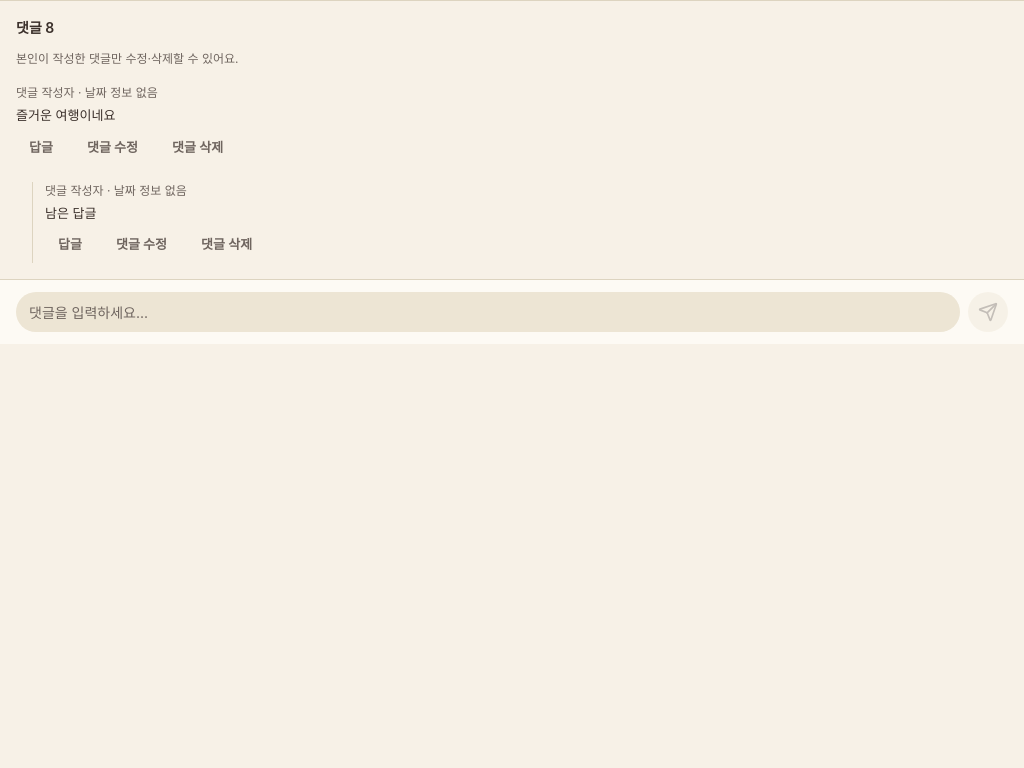
Test: persisted post comments › reloads the server tree after deleting a parent and exposes failed reads for retry
The width and height of the screenshot is (1024, 768).
Expected: the text "남은 답글" is shown, [45,204,96,220]
Click the button "댓글 삭제" below "즐거운 여행이네요" at (198, 148), box [159,130,236,166]
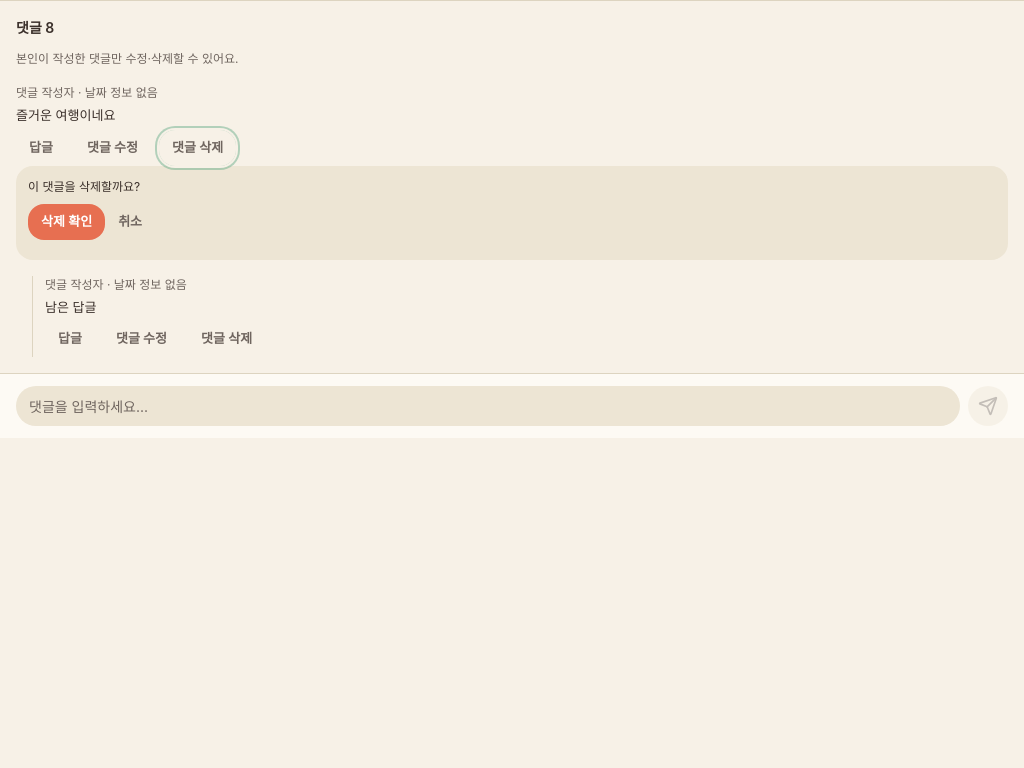
Click the button "삭제 확인" at (67, 222), box [28,204,105,240]
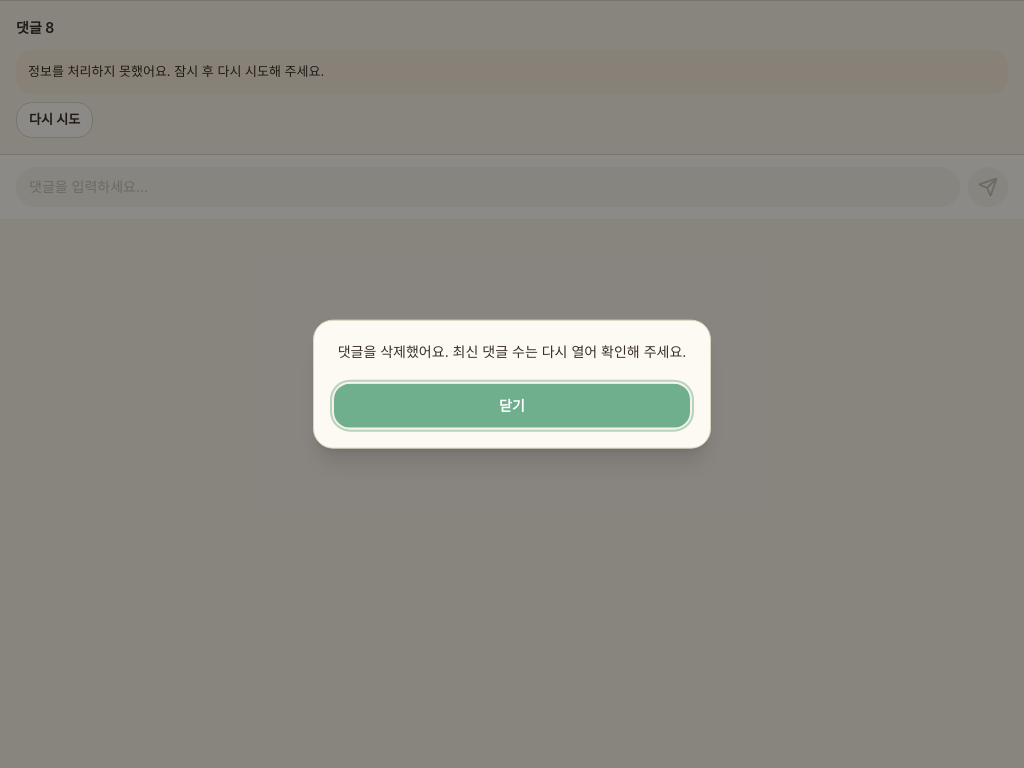
Click the button "닫기" at (512, 405), box [334,383,690,427]
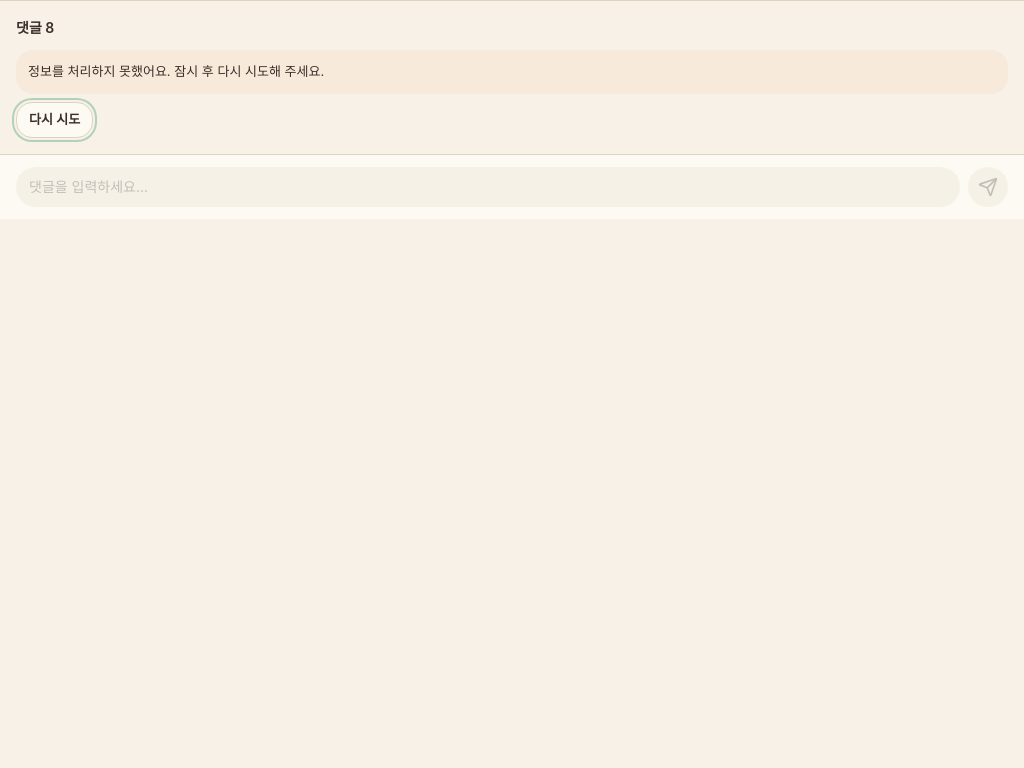
Expected: the message "정보를 처리하지 못했어요. 잠시 후 다시 시도해 주세요." is shown, [16,50,1008,94]
Click the button "다시 시도" at (55, 120), box [16,102,93,138]
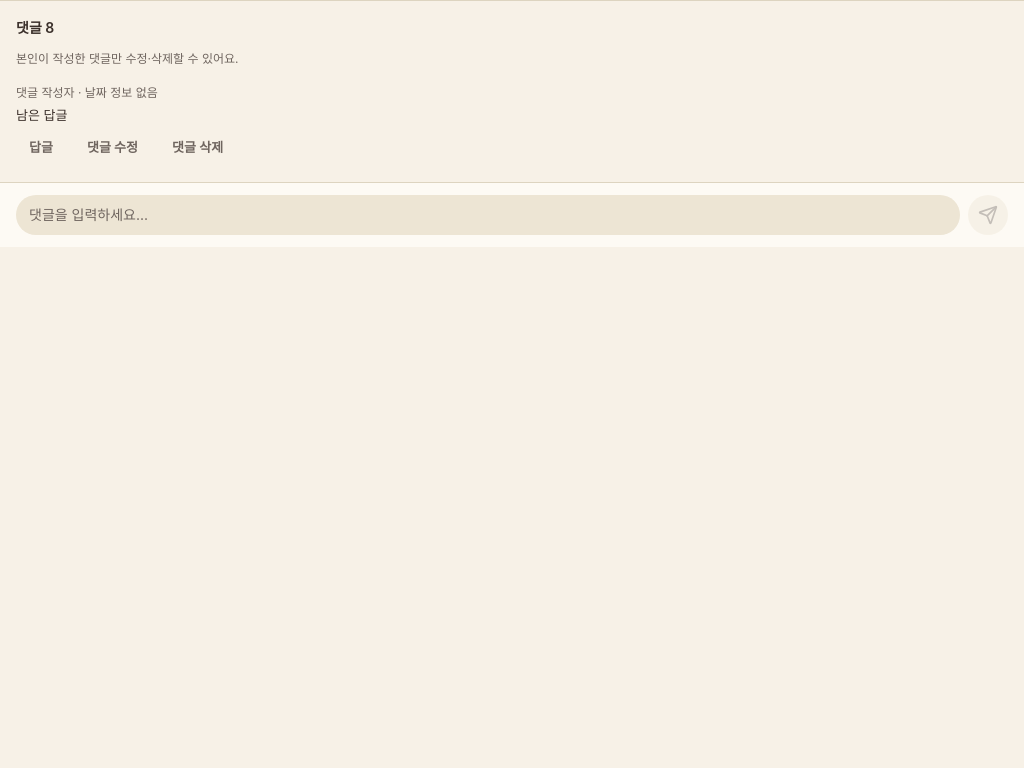
Expected: the text "즐거운 여행이네요" is not shown
Expected: the text "남은 답글" is shown, [16,107,68,123]
